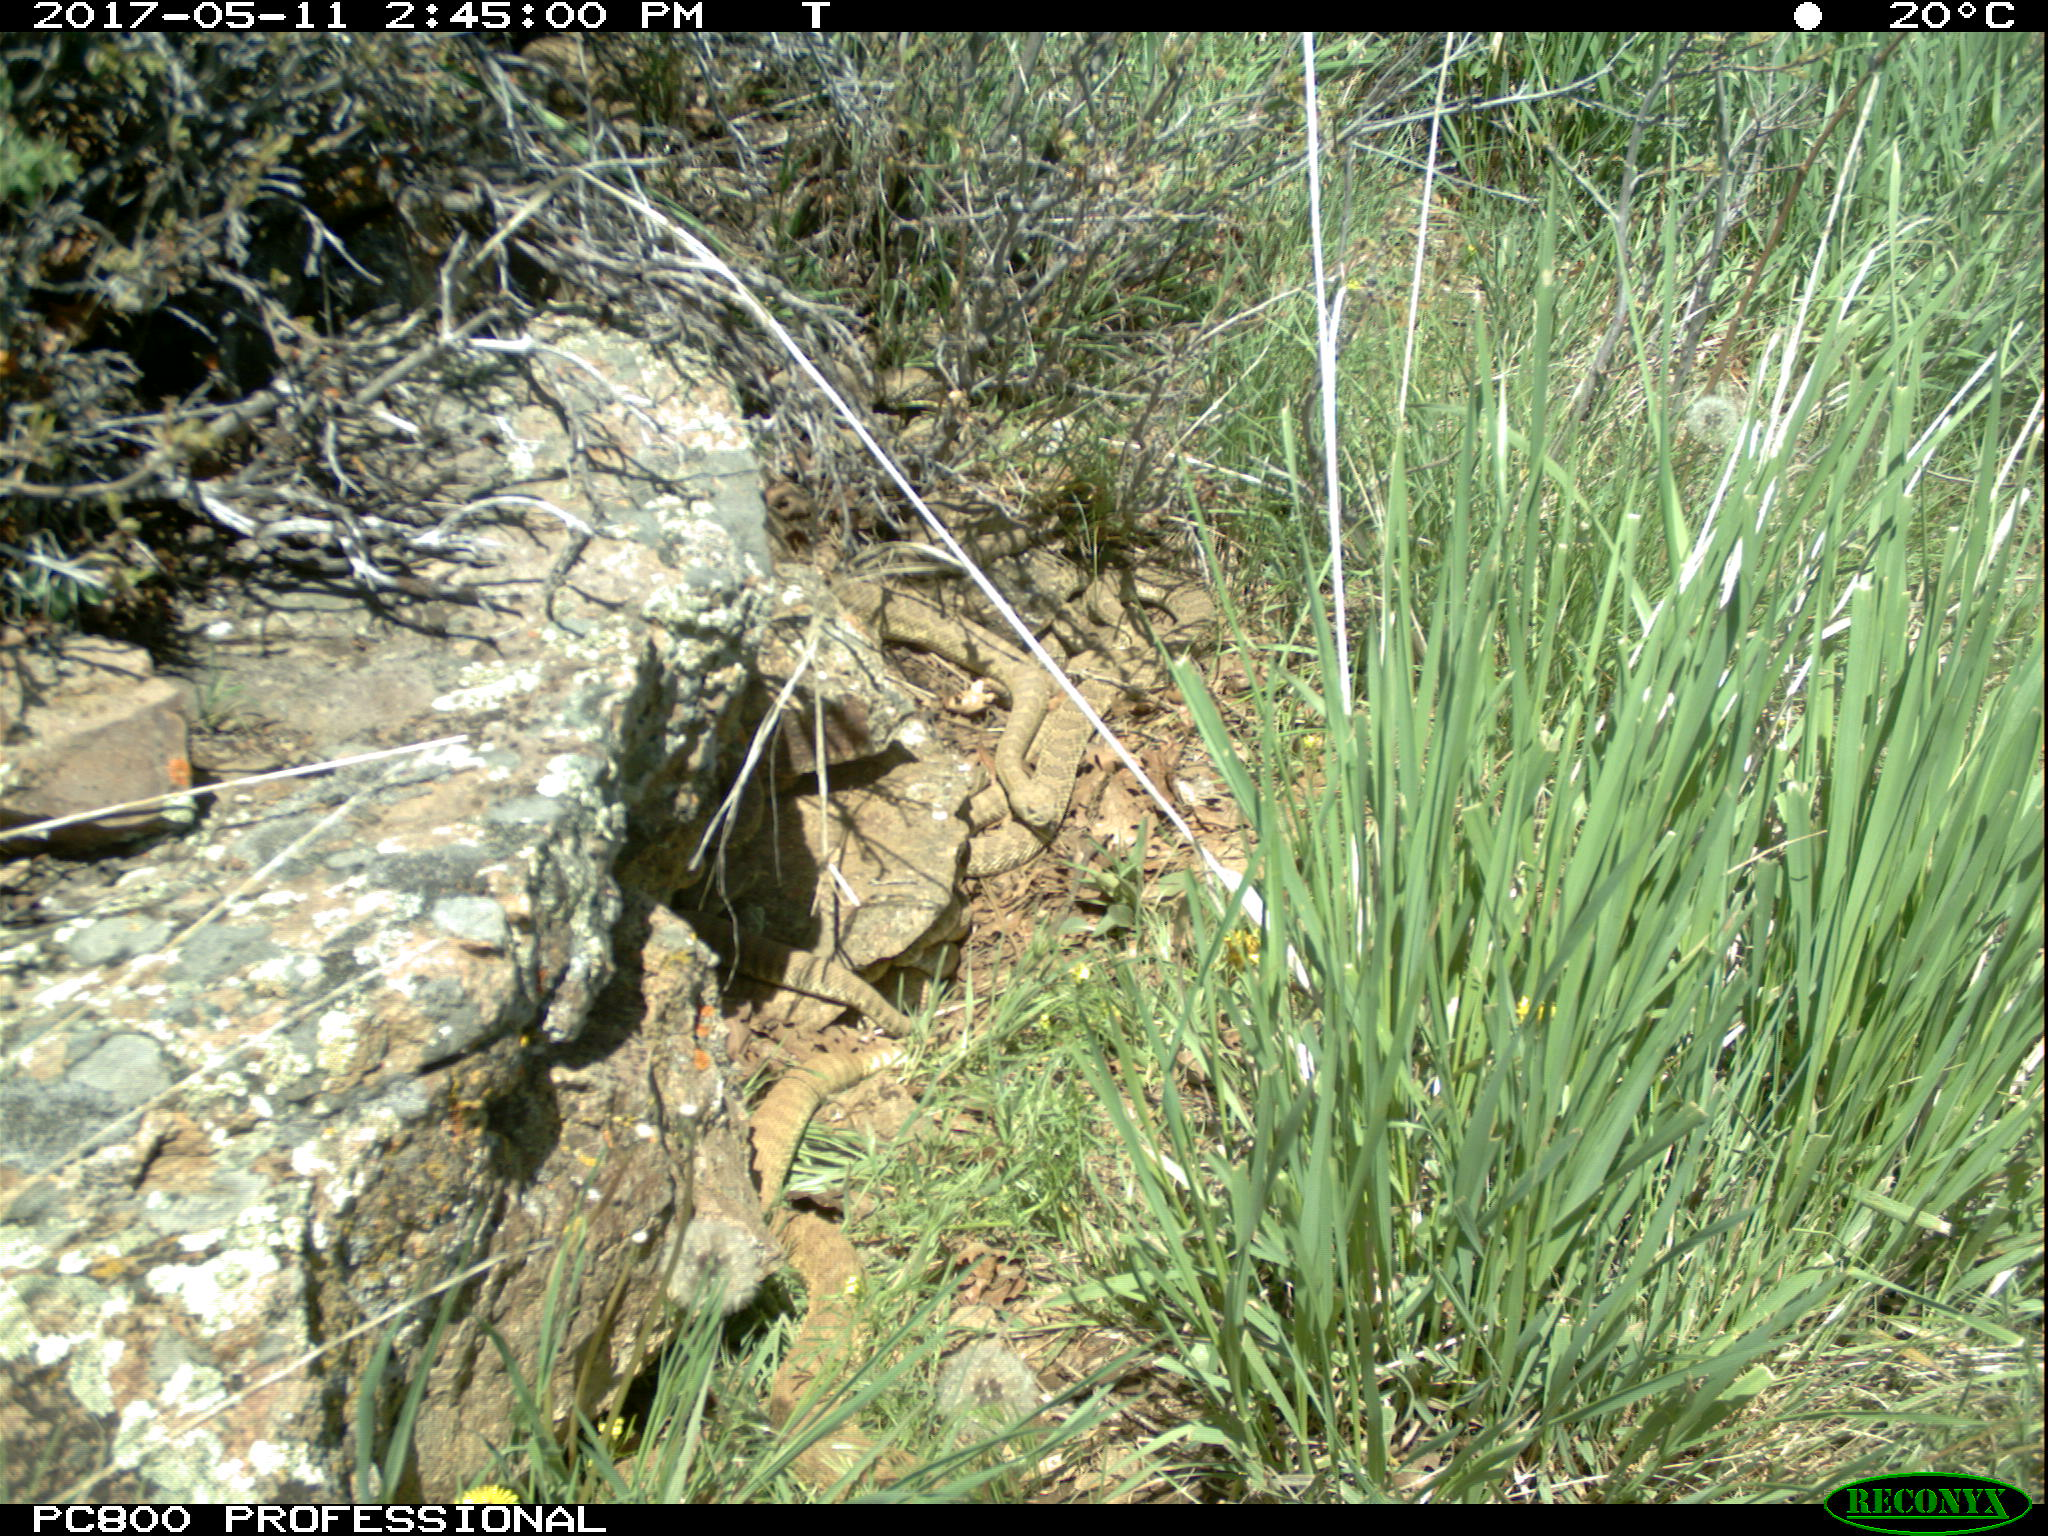snake: (832, 573, 1058, 839), (747, 1212, 911, 1488), (727, 1041, 897, 1226), (977, 652, 1118, 874), (708, 928, 943, 1042), (1071, 568, 1218, 663)
